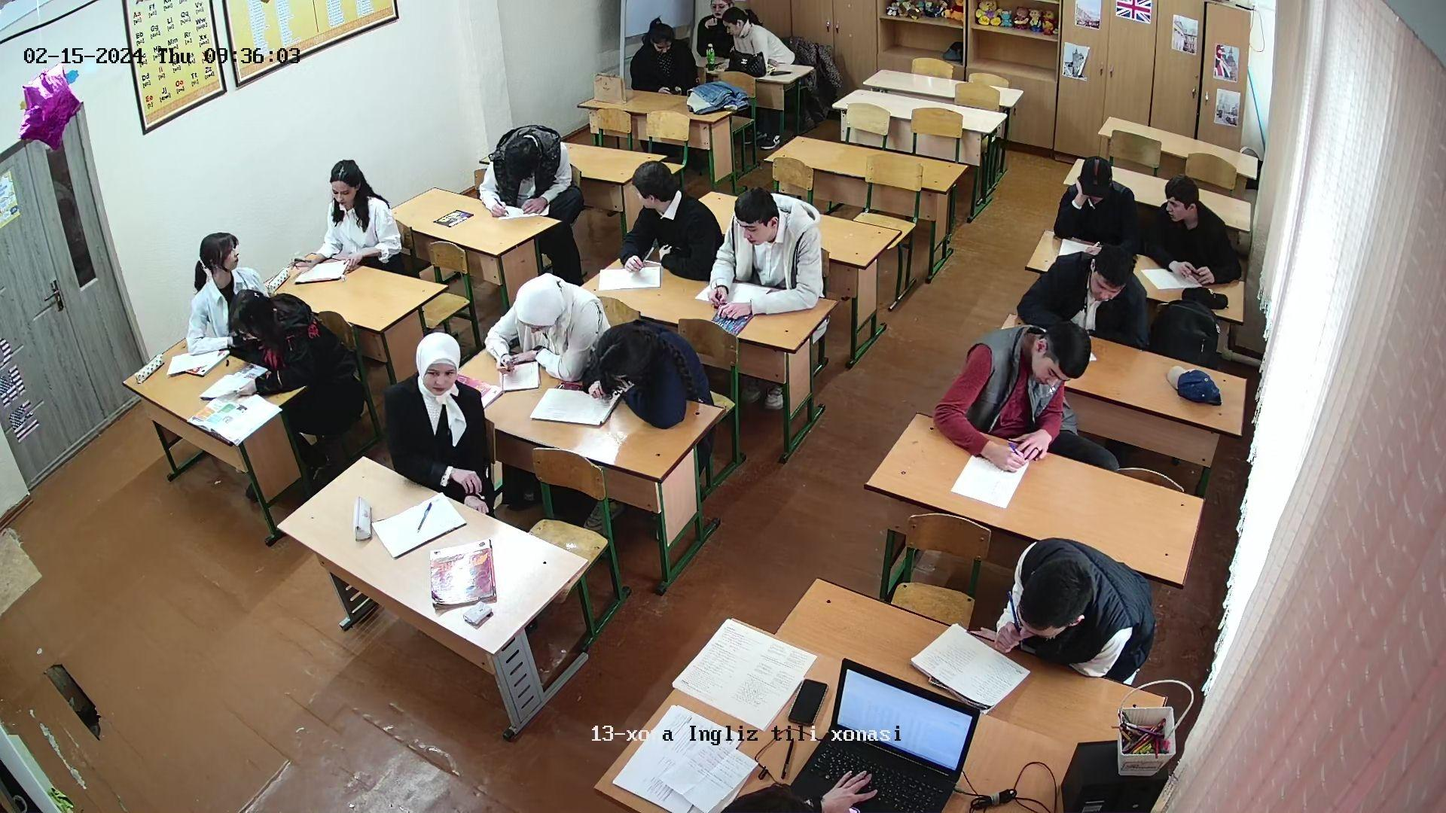Bend Over The Desk: (595, 322, 702, 413)
Hand Under Table: (1127, 317, 1148, 355)
Look Around: (404, 328, 465, 437), (623, 156, 689, 235), (194, 232, 251, 296), (1155, 173, 1206, 241)
Normal: (986, 533, 1146, 684), (963, 323, 1091, 460), (303, 160, 395, 269)
phone: (660, 78, 685, 102)
